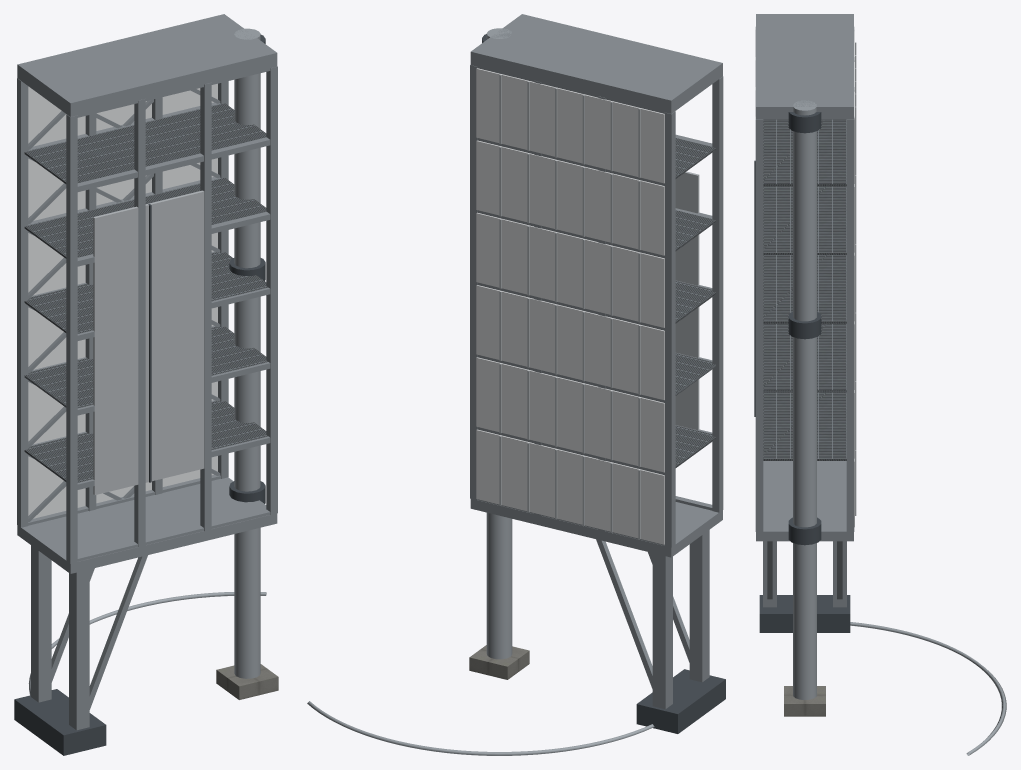
File: rss.glb
The picture shows the model from 3 angles, left to right: view 1: azimuth 30°, elevation 25°; view 2: azimuth 150°, elevation 25°; view 3: azimuth 270°, elevation 25°; orthographic projection. The views are drawn at different scales.
Parts seen in each view (by area): view 1: pose_rss, hinge, rail; view 2: pose_rss, hinge, rail; view 3: pose_rss, hinge, rail.
Boxes of the visible parts, left/top/right/bottom form: pose_rss: left=14, top=14, right=277, bottom=755; hinge: left=216, top=28, right=278, bottom=699; rail: left=28, top=592, right=266, bottom=695; pose_rss: left=470, top=14, right=725, bottom=733; hinge: left=469, top=28, right=529, bottom=679; rail: left=307, top=701, right=654, bottom=755; pose_rss: left=754, top=14, right=856, bottom=632; hinge: left=784, top=100, right=825, bottom=716; rail: left=850, top=622, right=1006, bottom=755.
Size of the model in its own units: 9.66 by 19 by 7.22.
Materials: 7 (2 with a texture image).
